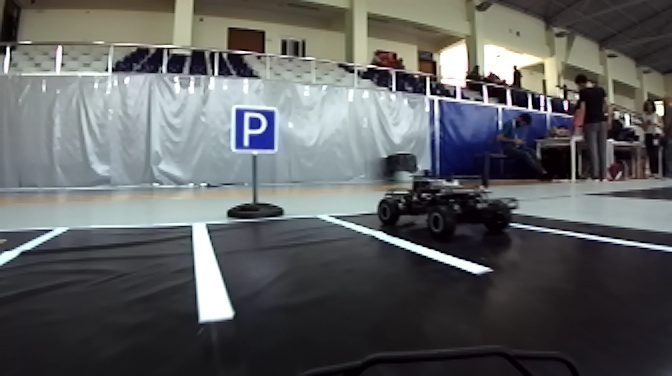park: (230, 103, 280, 156)
